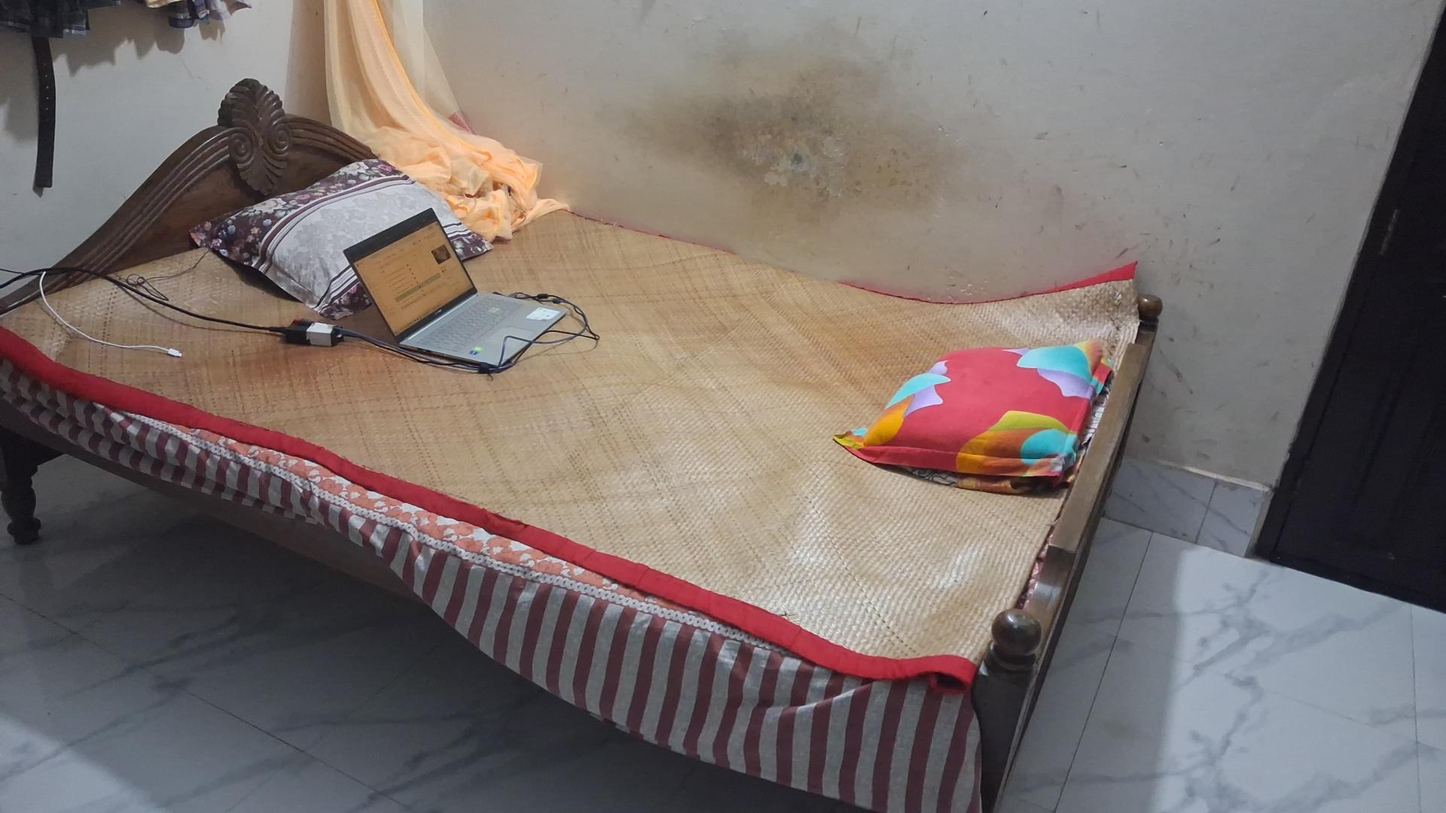Laptop: (342, 207, 567, 371)
Pillow: (859, 315, 1110, 498), (205, 156, 484, 310)
